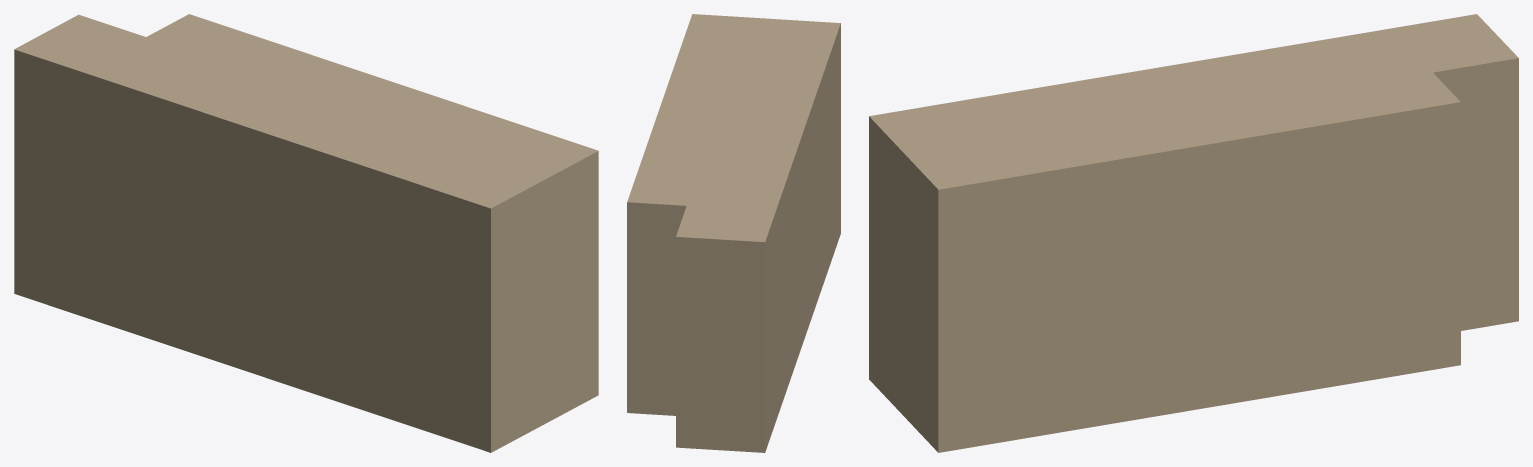
The model's file is bld_106415139.dae.
3 renders of one model, left to right at view 1: azimuth 30°, elevation 25°; view 2: azimuth 150°, elevation 25°; view 3: azimuth 270°, elevation 25°, orthographic. The views are drawn at different scales.
Parts seen in each view (by area): view 1: bld_106415139; view 2: bld_106415139; view 3: bld_106415139.
Part boxes in pixels (box(x1,y1,x2,y2)): bld_106415139: box(14, 14, 598, 452); bld_106415139: box(627, 14, 840, 452); bld_106415139: box(869, 14, 1518, 452).
Size of the model in its own units: 11.46 by 17.91 by 8.
